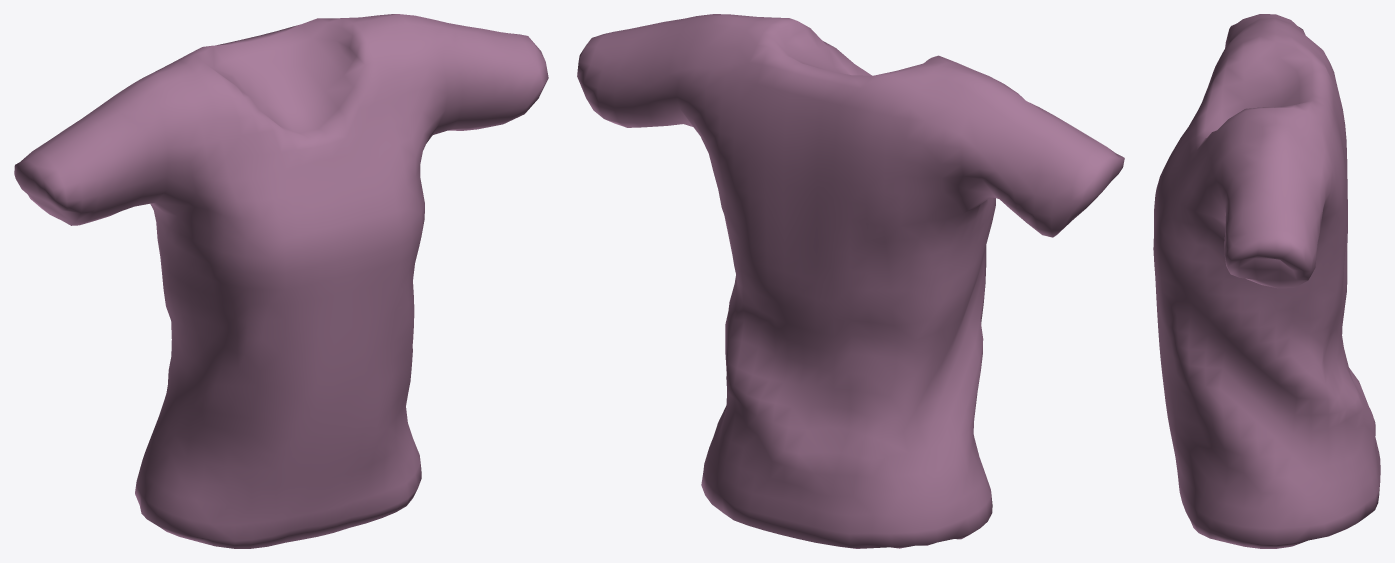
File: f_shirt_01.fbx
3 views of the same model, side by side, from view 1: azimuth 30°, elevation 25°; view 2: azimuth 150°, elevation 25°; view 3: azimuth 270°, elevation 25° (orthographic). The views are drawn at different scales.
Parts seen in each view (by area): view 1: f_shirt_01; view 2: f_shirt_01; view 3: f_shirt_01.
Part boxes in pixels (left/top/right/bottom): f_shirt_01: left=14, top=14, right=548, bottom=548; f_shirt_01: left=577, top=14, right=1124, bottom=548; f_shirt_01: left=1153, top=14, right=1380, bottom=548.
Bounding box in the file's own units: 57.68 × 49.38 × 23.99.
